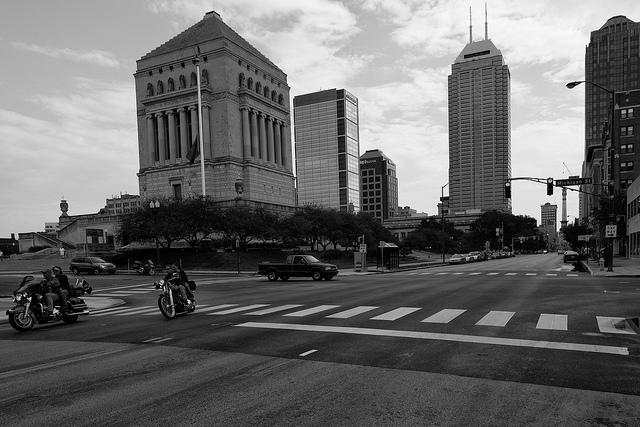car: (69, 257, 117, 275), (562, 251, 580, 263), (449, 254, 466, 266), (469, 252, 481, 260), (491, 253, 501, 259), (505, 252, 513, 258), (502, 252, 508, 258), (542, 250, 548, 254)
motorcycle: (5, 276, 90, 332), (156, 263, 200, 317), (133, 260, 155, 276)
truck: (259, 255, 340, 282)
